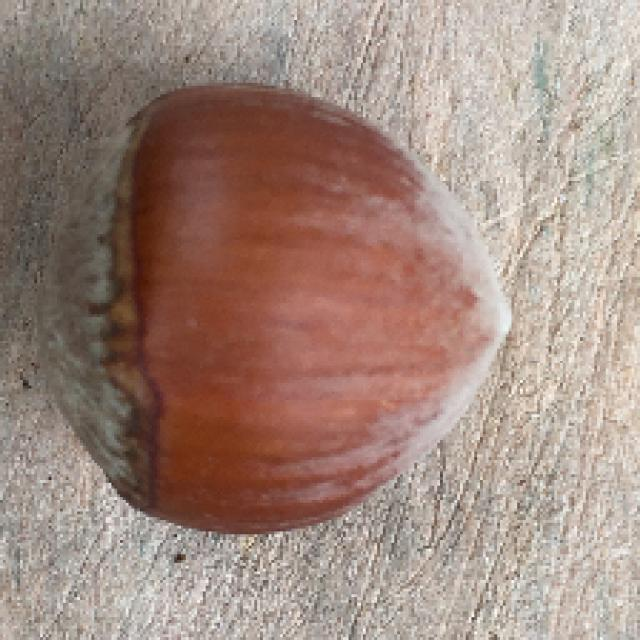qualityHazelnut: (33, 77, 516, 544)
